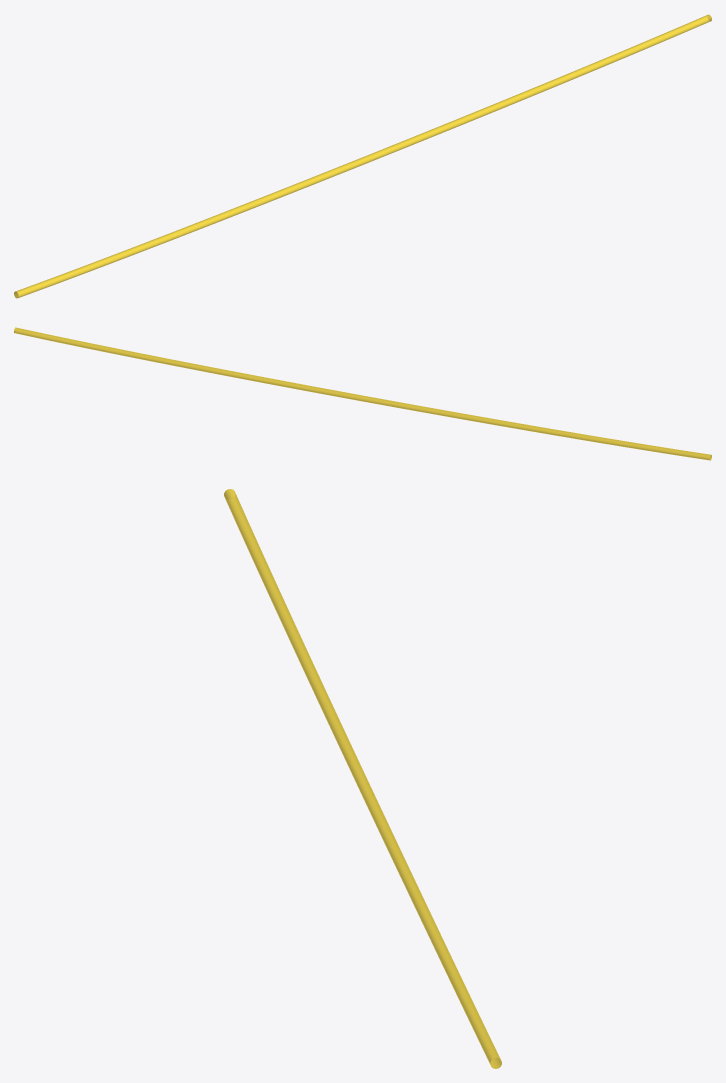
Rendered from Event_27938768_track_33.fbx.
3 renders of one model, top to bottom at view 1: azimuth 30°, elevation 25°; view 2: azimuth 150°, elevation 25°; view 3: azimuth 270°, elevation 25°, orthographic. The views are drawn at different scales.
Parts seen in each view (by area): view 1: Model; view 2: Model; view 3: Model.
Part boxes in pixels (<box>): Model: <box>14,14,711,298</box>; Model: <box>14,327,711,460</box>; Model: <box>224,489,501,1068</box>.
Size of the model in its own units: 4.91 by 0.2082 by 0.9388.
